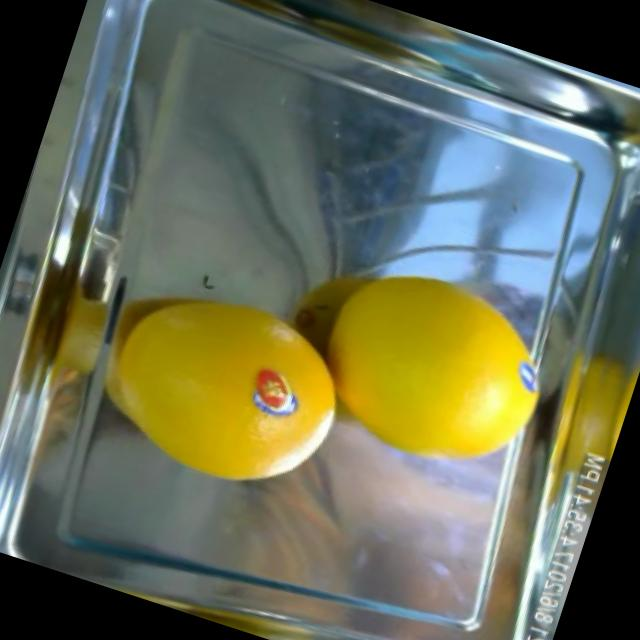Fruit: (540, 330, 640, 478)
